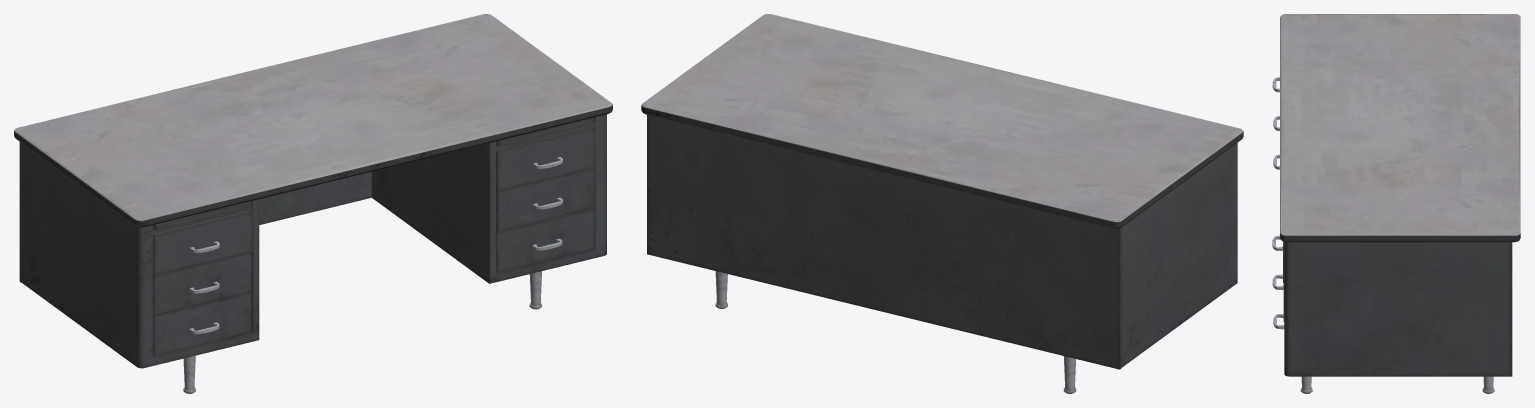
File: metal_office_desk.glb
The picture shows the model from 3 angles, left to right: view 1: azimuth 30°, elevation 25°; view 2: azimuth 150°, elevation 25°; view 3: azimuth 270°, elevation 25°; orthographic projection. The views are drawn at different scales.
Visible parts, largest first — view 1: metal_office_desk_drawer_06; view 2: metal_office_desk_drawer_06; view 3: metal_office_desk_drawer_06.
Boxes of the visible parts, box(x1,y1,x2,y2) form: metal_office_desk_drawer_06: box(14, 14, 612, 393); metal_office_desk_drawer_06: box(641, 14, 1243, 393); metal_office_desk_drawer_06: box(1272, 14, 1520, 393).
Bounding box in the file's own units: 2 × 0.7875 × 0.947.
Materials: 1 (1 with a texture image).
